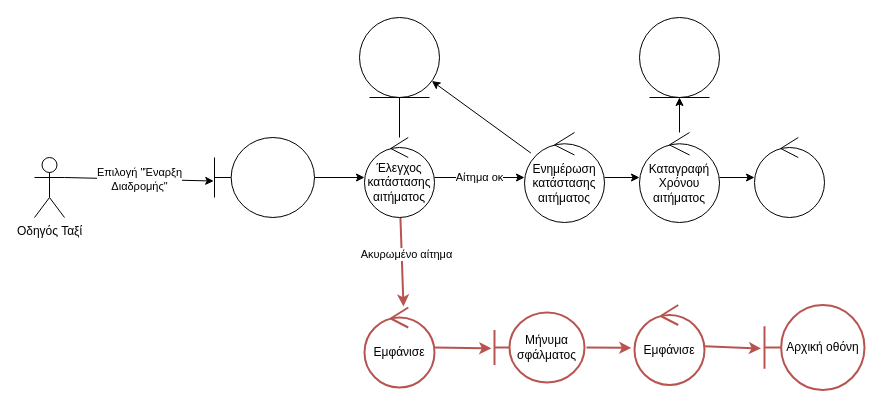
This 883x408 diagram has some shape labels left out. The box of each missing label's shape, as (x1, y1, x2, y2) in pixels:
Timer: (638, 16, 720, 98)
Βάση Δεδομένων: (358, 16, 440, 98)
Οθόνη Μετακίνησης: (214, 136, 314, 218)
Τοποθέτηση προορισμού στον χάρτη: (754, 136, 824, 218)
